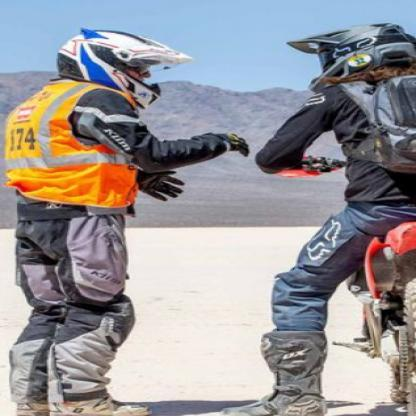helmet: (56, 29, 194, 111), (286, 22, 416, 94)
